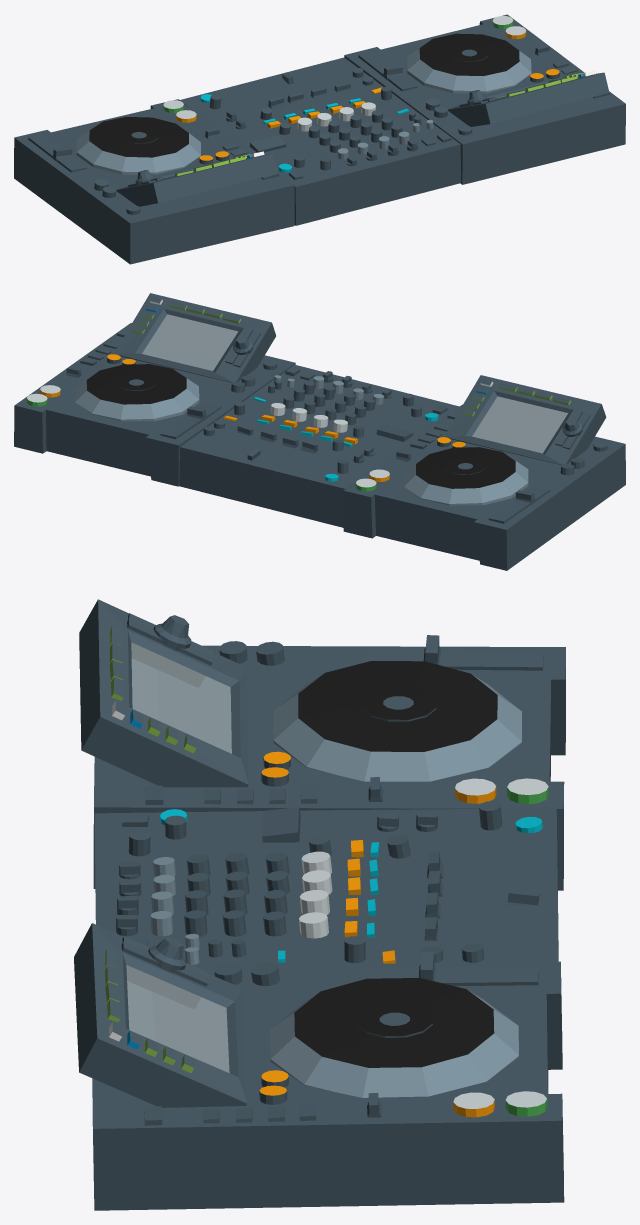
File: DJ System.fbx
The picture shows the model from 3 angles, top to bottom: view 1: azimuth 30°, elevation 25°; view 2: azimuth 150°, elevation 25°; view 3: azimuth 270°, elevation 25°; orthographic projection. The views are drawn at different scales.
Visible parts, largest first — view 1: DJ System; view 2: DJ System; view 3: DJ System.
Part boxes in pixels (bbox=[...]): DJ System: bbox=[14, 14, 625, 264]; DJ System: bbox=[14, 293, 625, 570]; DJ System: bbox=[74, 599, 565, 1210].
Bounding box in the file's own units: 160 × 24.16 × 68.81.
